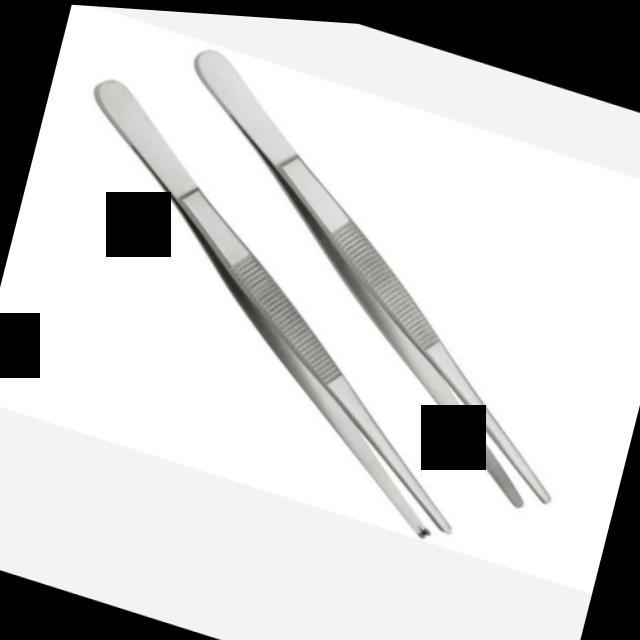Disscting Forceps -Plain-: (110, 34, 640, 514)
Disscting Forceps -tooth-: (6, 62, 537, 548)
